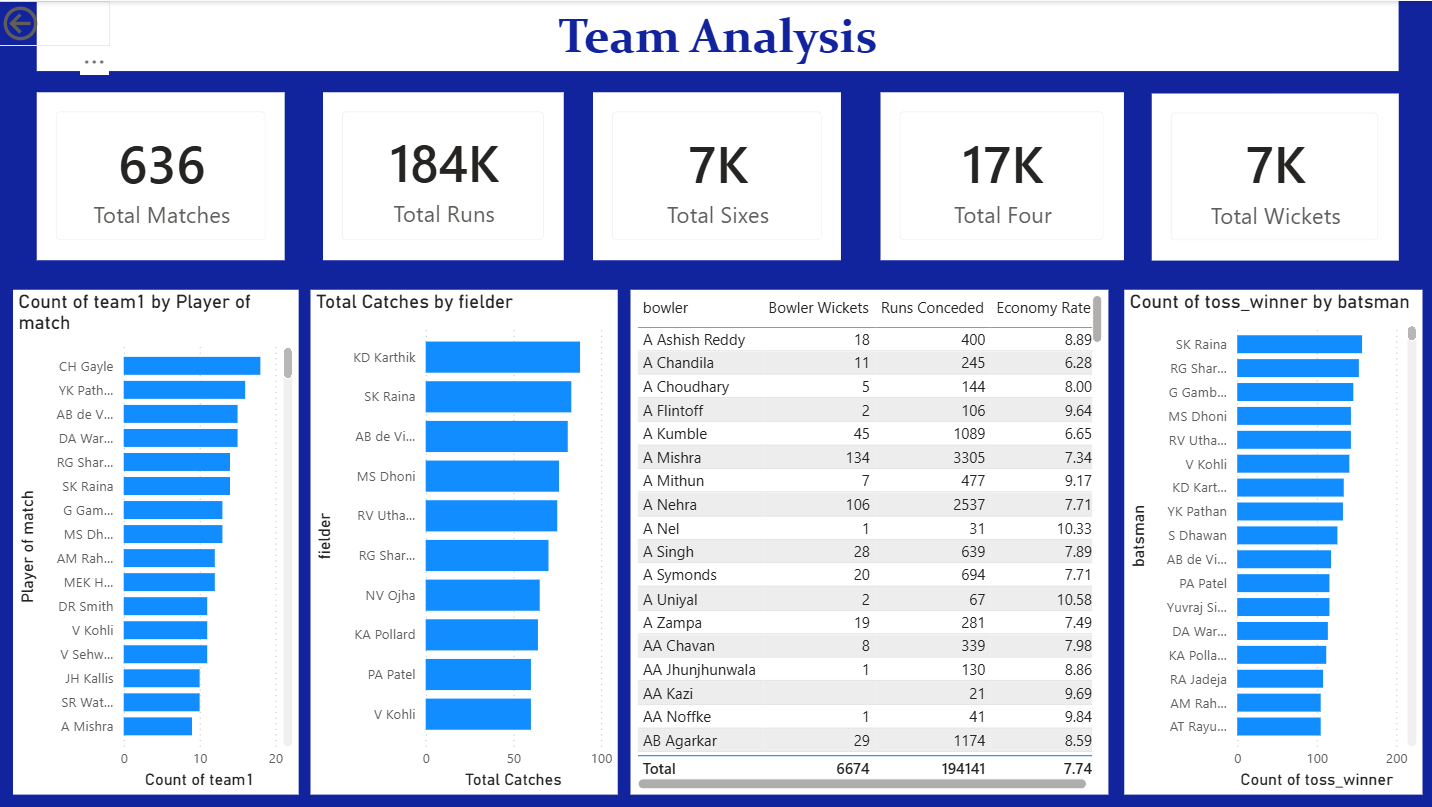

This screenshot's page, from the dashboard's own definition file:
{"tool":"powerbi","page":{"name":"Page 1","canvas":[1280,720],"ordinal":0},"visuals":[{"type":"textbox","box":[34.2,0,1212.9,62.8],"z":0},{"type":"cardVisual","fields":{"Data":["matches (1) csv.Total Runs"]},"box":[289.7,81.3,214,149.8],"z":1000},{"type":"cardVisual","fields":{"Data":["matches (1) csv.Total Wickets"]},"box":[1027.4,82.8,219.8,148.4],"z":2000},{"type":"cardVisual","fields":{"Data":["deliveries.Total Four"]},"box":[786.3,81.3,216.9,149.8],"z":3000},{"type":"cardVisual","fields":{"Data":["deliveries.Total Sixes"]},"box":[529.4,81.3,221.2,149.8],"z":4000},{"type":"cardVisual","fields":{"Data":["CountNonNull(matches (1) csv.id)"]},"box":[34.2,81.3,221.2,149.8],"z":5000},{"type":"barChart","fields":{"Category":["matches (1) csv.player_of_match"],"Y":["CountNonNull(matches (1) csv.team1)"]},"box":[12.8,256.9,254,449.5],"z":6000},{"type":"actionButton","box":[0,0,100,40],"z":7000},{"type":"barChart","fields":{"Category":["deliveries.batsman"],"Y":["CountNonNull(matches (1) csv.toss_winner)"]},"box":[1003.2,256.9,265.4,449.5],"z":8000},{"type":"clusteredBarChart","fields":{"Category":["deliveries.fielder"],"Y":["deliveries.Total Catches"]},"box":[278.3,256.9,274,449.5],"z":9000},{"type":"tableEx","fields":{"Values":["deliveries.bowler","deliveries.Bowler Wickets","deliveries.Runs Conceded","deliveries.Economy Rate"]},"box":[563.7,256.9,425.2,449.5],"z":10000}]}

Visuals, with their boxes in screenshot pixels (x1, y1, x2, y2):
textbox: {"left": 49, "top": 0, "right": 1387, "bottom": 69}
cardVisual - matches (1) csv.Total Runs: {"left": 331, "top": 90, "right": 567, "bottom": 255}
cardVisual - matches (1) csv.Total Wickets: {"left": 1145, "top": 91, "right": 1387, "bottom": 255}
cardVisual - deliveries.Total Four: {"left": 879, "top": 90, "right": 1118, "bottom": 255}
cardVisual - deliveries.Total Sixes: {"left": 595, "top": 90, "right": 839, "bottom": 255}
cardVisual - CountNonNull(matches (1) csv.id): {"left": 49, "top": 90, "right": 293, "bottom": 255}
barChart - matches (1) csv.player_of_match x CountNonNull(matches (1) csv.team1): {"left": 25, "top": 283, "right": 306, "bottom": 779}
actionButton: {"left": 11, "top": 0, "right": 122, "bottom": 44}
barChart - deliveries.batsman x CountNonNull(matches (1) csv.toss_winner): {"left": 1118, "top": 283, "right": 1411, "bottom": 779}
clusteredBarChart - deliveries.fielder x deliveries.Total Catches: {"left": 318, "top": 283, "right": 621, "bottom": 779}
tableEx - deliveries.bowler x deliveries.Bowler Wickets: {"left": 633, "top": 283, "right": 1102, "bottom": 779}
